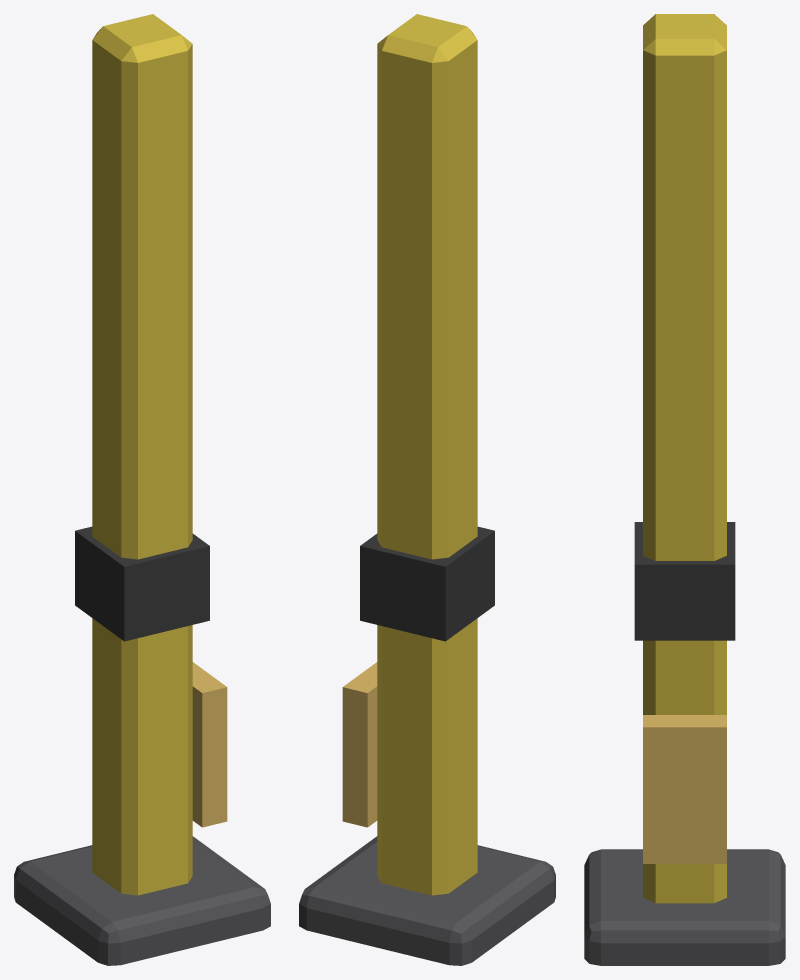
Rendered from rn2-fabrica-post.glb.
The picture shows the model from 3 angles, left to right: view 1: azimuth 30°, elevation 25°; view 2: azimuth 150°, elevation 25°; view 3: azimuth 270°, elevation 25°; orthographic projection.
Parts seen in each view (by area): view 1: rn2_fabrica_post_body, rn2_fabrica_post_glow; view 2: rn2_fabrica_post_body, rn2_fabrica_post_glow; view 3: rn2_fabrica_post_body, rn2_fabrica_post_glow.
Part boxes in pixels (x1,y1,x2,y2): rn2_fabrica_post_body: (14,14,270,965); rn2_fabrica_post_glow: (192,662,227,827); rn2_fabrica_post_body: (299,14,555,965); rn2_fabrica_post_glow: (342,662,377,827); rn2_fabrica_post_body: (584,14,785,965); rn2_fabrica_post_glow: (643,715,726,863).
Size of the model in its own units: 0.24 by 1.18 by 0.24.
